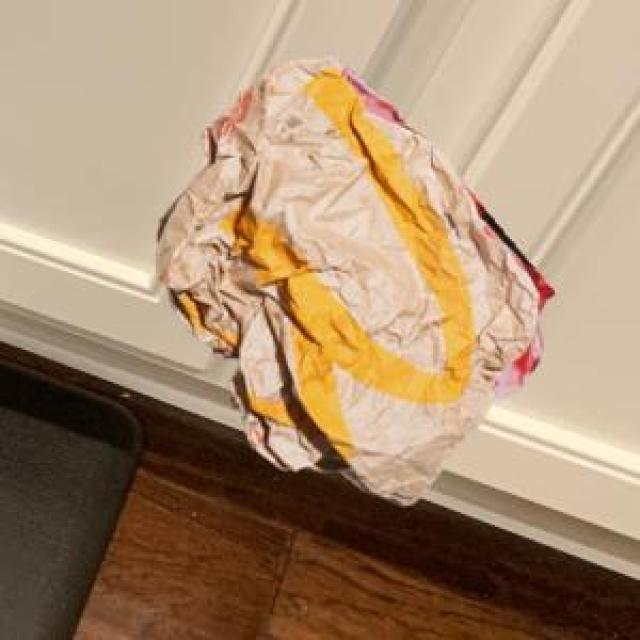paper: (152, 53, 536, 501)
